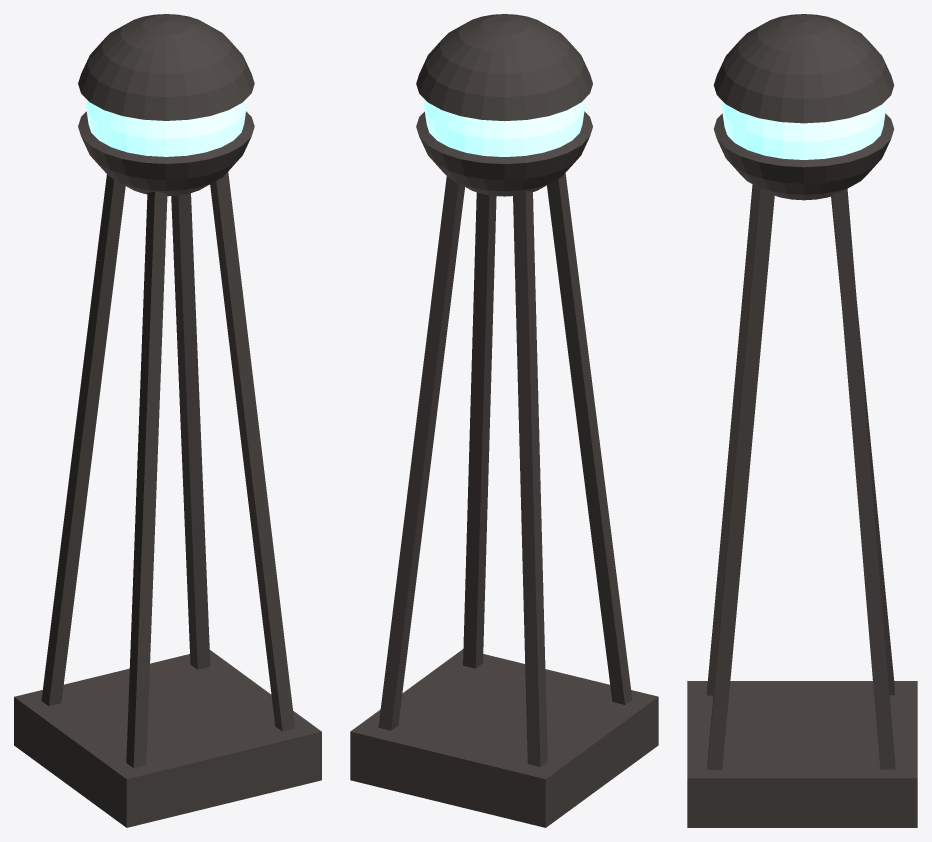
Rendered from Space_object1.fbx.
3 renders of one model, left to right at view 1: azimuth 30°, elevation 25°; view 2: azimuth 150°, elevation 25°; view 3: azimuth 270°, elevation 25°, orthographic. The views are drawn at different scales.
Visible parts, largest first — view 1: Sphere; view 2: Sphere; view 3: Sphere.
Boxes of the visible parts, <box> form: Sphere: <box>14,14,321,827</box>; Sphere: <box>350,14,658,827</box>; Sphere: <box>687,14,917,827</box>.
Bounding box in the file's own units: 460 × 1667 × 460.
